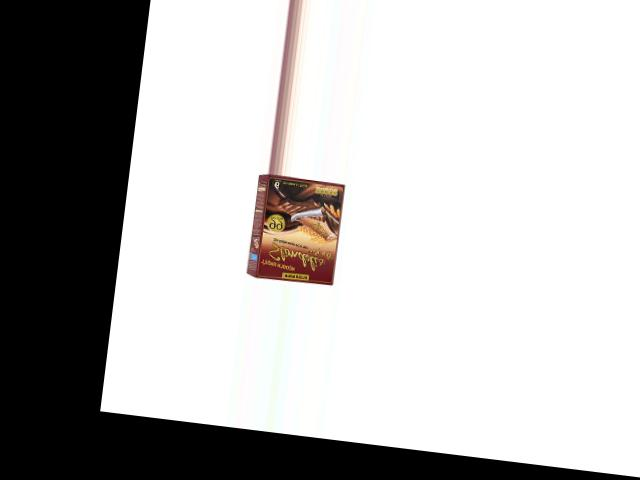chocolate: (240, 171, 354, 289)
